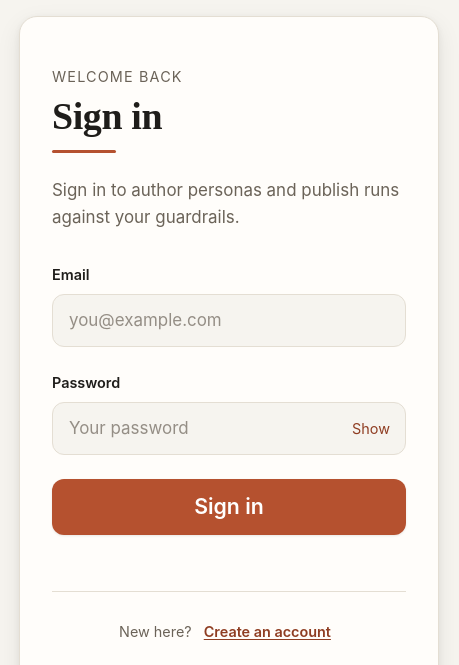
Test case: LoginPage › should announce an error via aria-live when login fails (error handling)
Type "ada@example.com" into the field labelled "Email". click: (229, 321)
box: top-left (52, 294), bottom-right (406, 347)
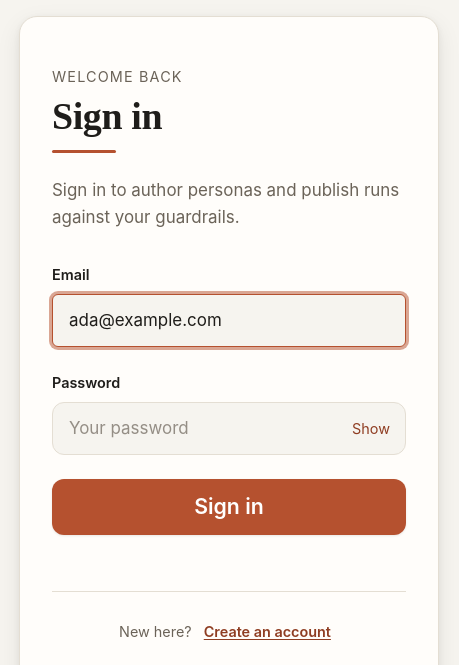
Type "wrong" into the password field labelled "Password". click: (229, 429)
box: top-left (52, 402), bottom-right (406, 455)
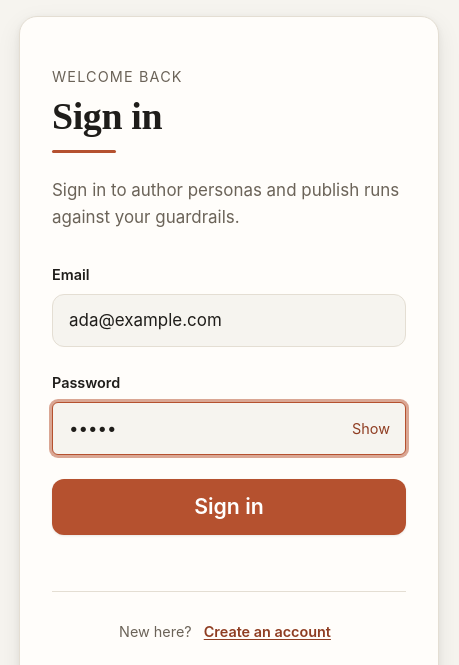
Click the button "Sign in". click: (229, 507)
box: top-left (52, 479), bottom-right (406, 535)
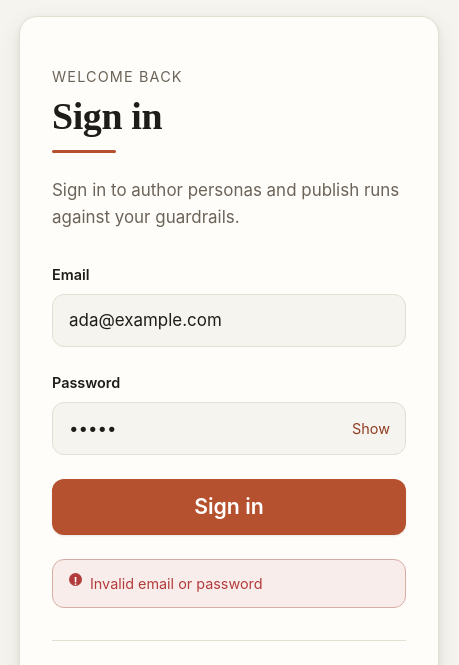
Now the message reads "Invalid email or password", box top-left (90, 575), bottom-right (263, 592)
